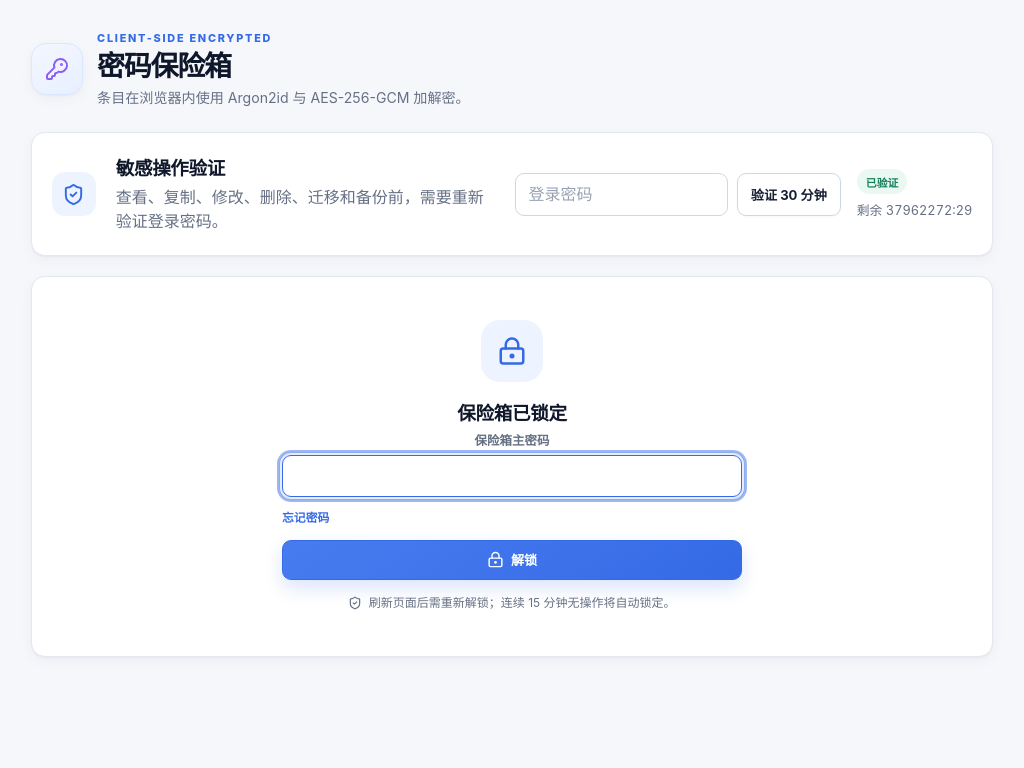
vault complete loading, pagination and favorites › recovers the master password from the locked gate after login-password and captcha verification
The width and height of the screenshot is (1024, 768).
Click the button "忘记密码" at {"x": 306, "y": 516}, box [282,508,329,525]
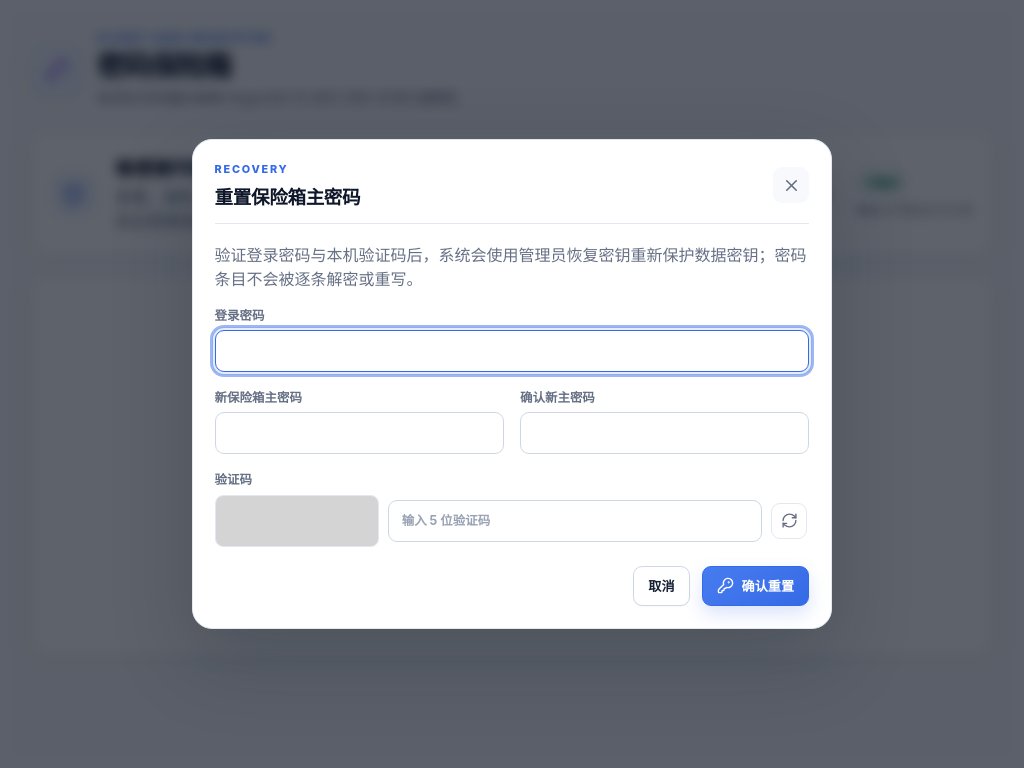
Type "LoginPass9!" into the password field labelled "登录密码" at {"x": 512, "y": 351}, box [215,330,809,372]
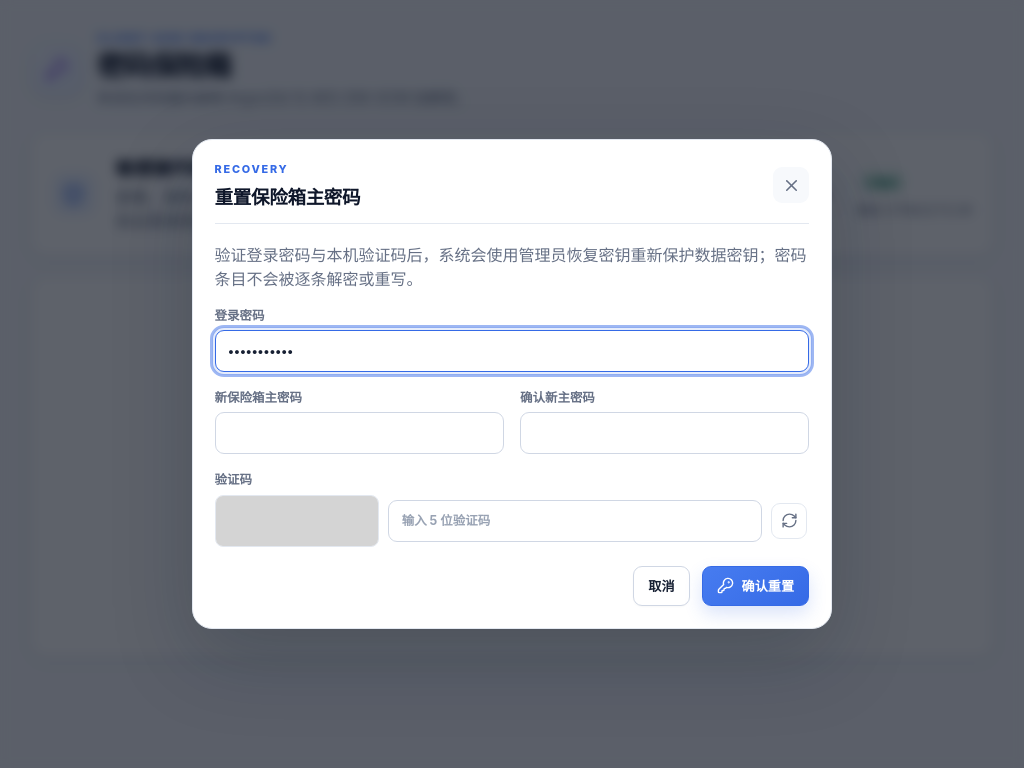
Type "NewMaster9!" into the password field labelled "新保险箱主密码" at {"x": 359, "y": 433}, box [215,412,504,454]
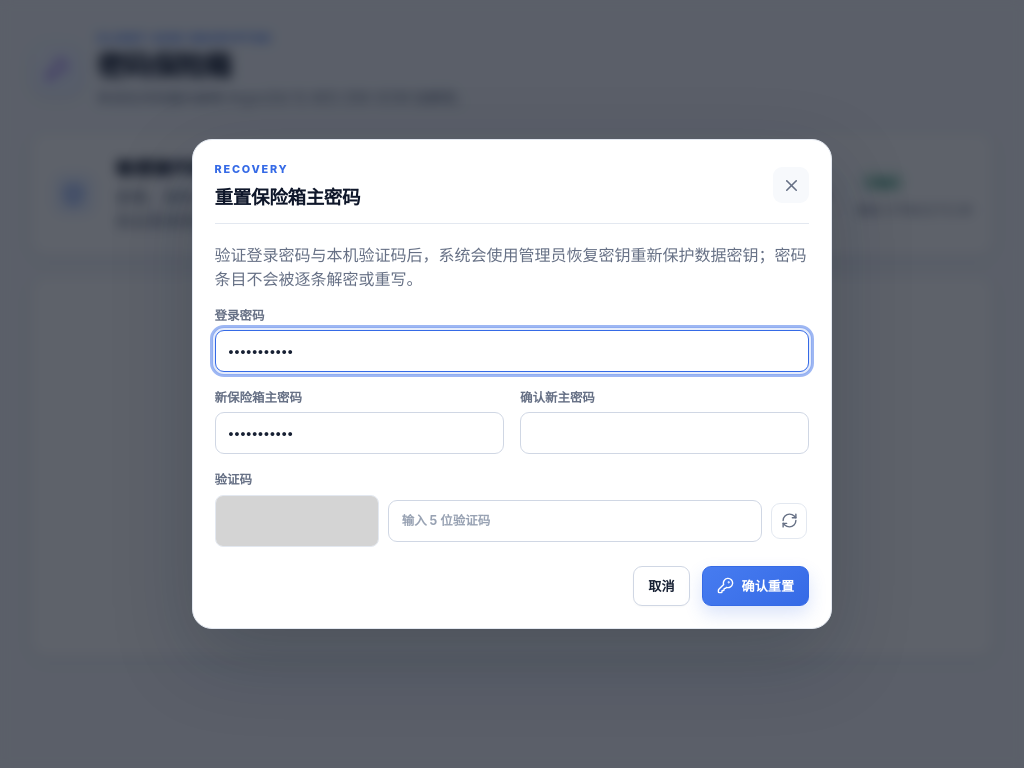
Type "NewMaster9!" into the password field labelled "确认新主密码" at {"x": 665, "y": 433}, box [520,412,809,454]
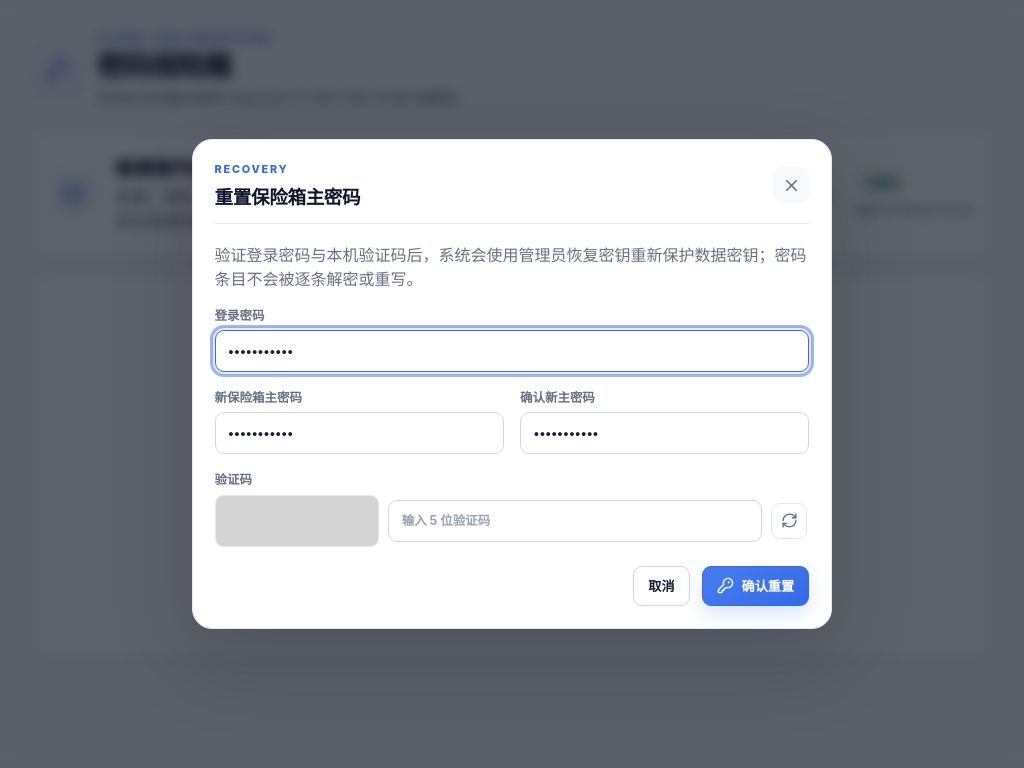
Type "AAAAA" into the field with placeholder "输入 5 位验证码" at {"x": 575, "y": 521}, box [388,500,762,542]
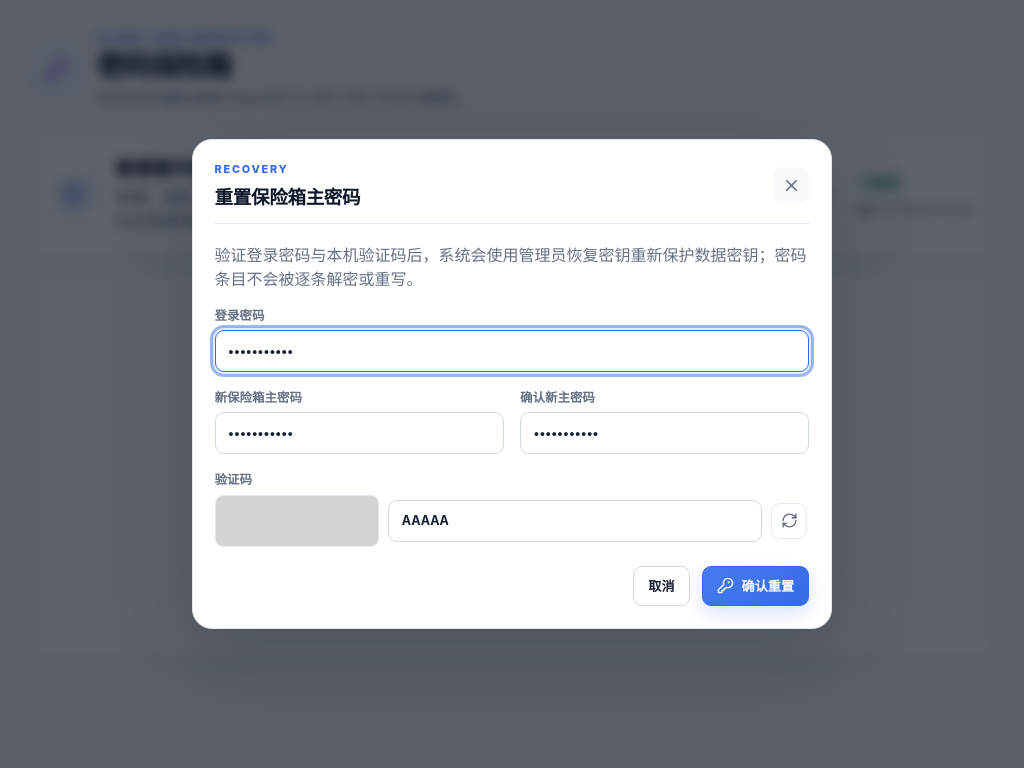
Click the button "确认重置" at {"x": 756, "y": 586}, box [702,566,809,606]
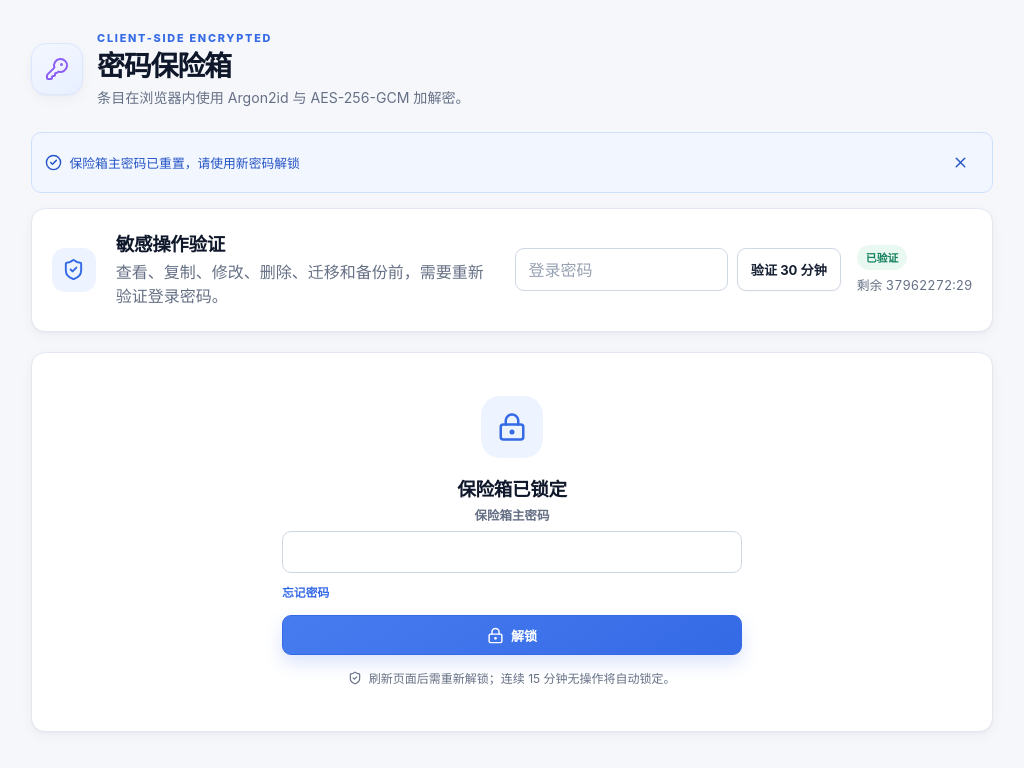
Expected: the heading "保险箱已锁定" is shown, [457,478,567,500]
Expected: the text "保险箱主密码已重置，请使用新密码解锁" is shown, [45,153,300,172]
